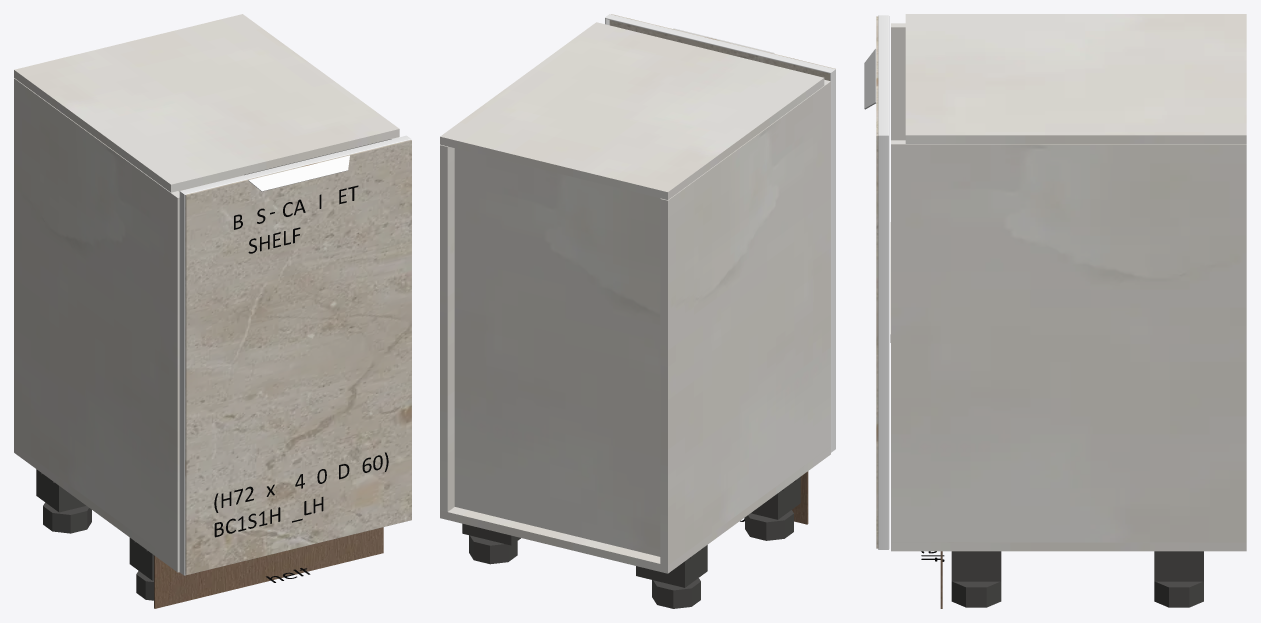
The picture shows the model from 3 angles, left to right: view 1: azimuth 30°, elevation 25°; view 2: azimuth 150°, elevation 25°; view 3: azimuth 270°, elevation 25°; orthographic projection. The views are drawn at different scales.
Size of what is drawn, in the model's own units: 0.45 by 0.82 by 0.6.
Materials: 6 (3 with a texture image).
